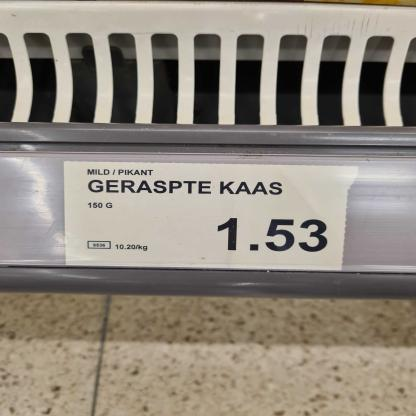prtg: (65, 162, 351, 272)
